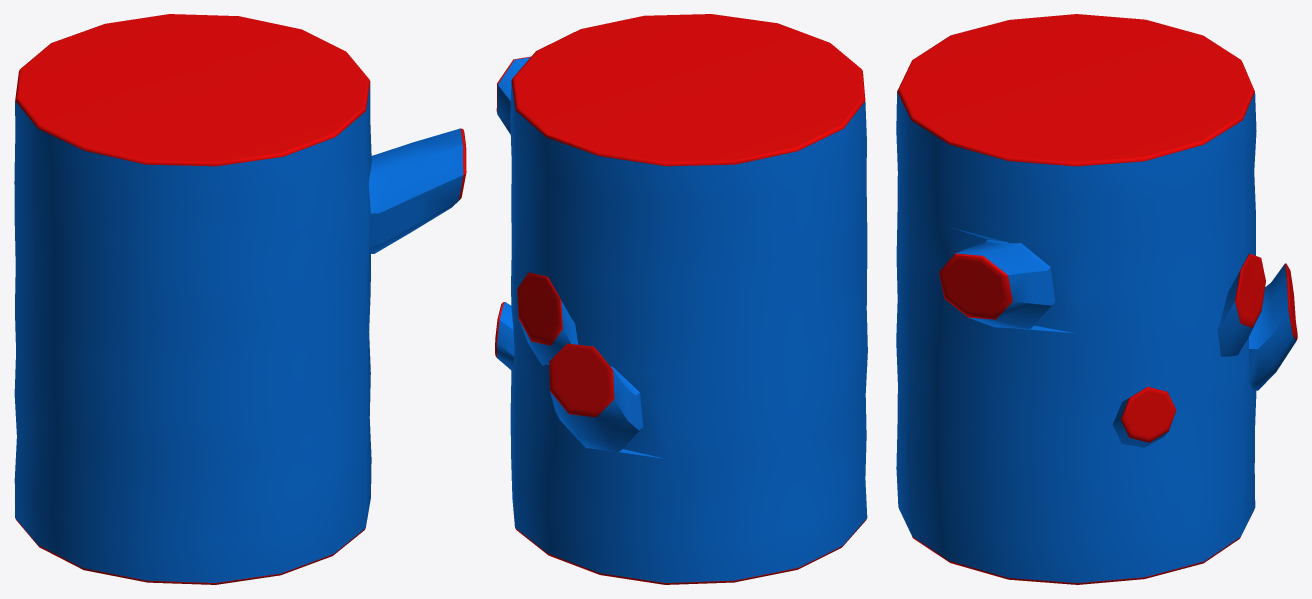
File: log_03.fbx
The picture shows the model from 3 angles, left to right: view 1: azimuth 30°, elevation 25°; view 2: azimuth 150°, elevation 25°; view 3: azimuth 270°, elevation 25°; orthographic projection.
Visible parts, largest first — view 1: generated_log_03; view 2: generated_log_03, generated_log_02, generated_log_01; view 3: generated_log_03, generated_log_02, generated_log_01.
Boxes of the visible parts, <box> form: generated_log_03: <box>14,14,466,584</box>; generated_log_03: <box>496,14,867,584</box>; generated_log_02: <box>517,272,578,365</box>; generated_log_01: <box>495,302,514,371</box>; generated_log_03: <box>896,14,1297,584</box>; generated_log_02: <box>1217,253,1265,356</box>; generated_log_01: <box>1112,387,1176,447</box>.
Size of the model in its own units: 3.2 by 3.38 by 2.9.
